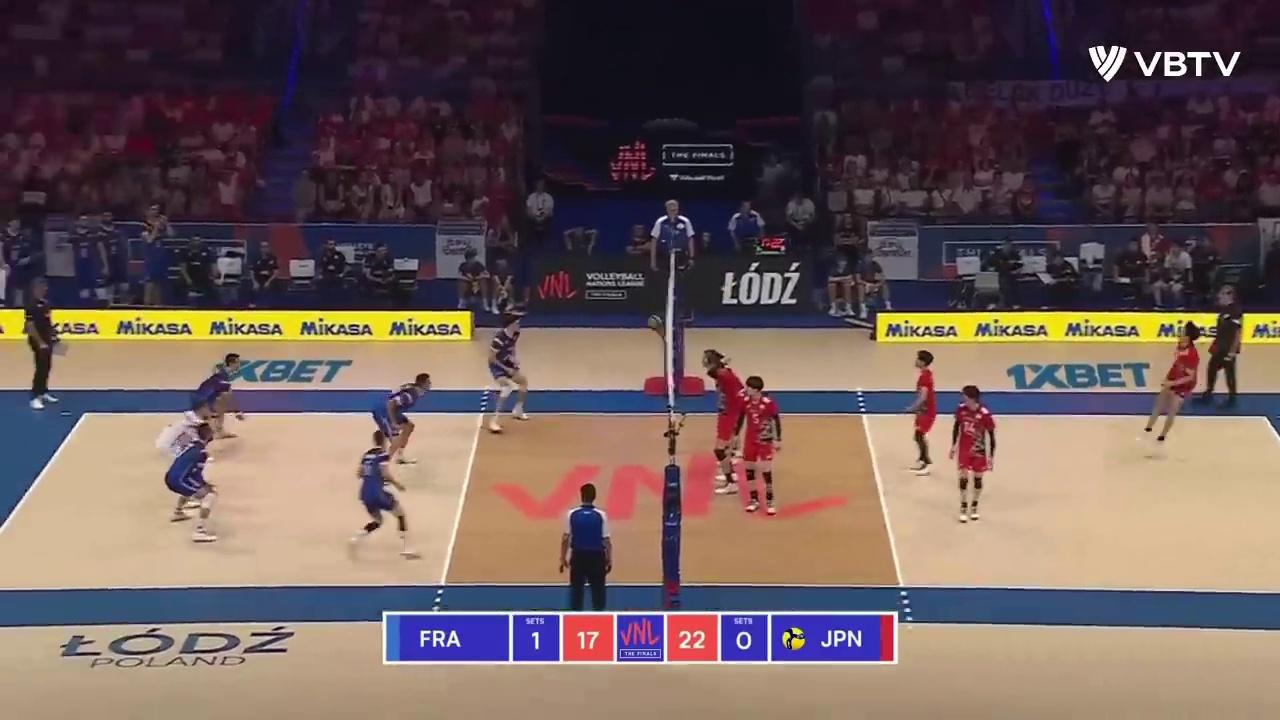ball: (648, 316, 662, 330)
